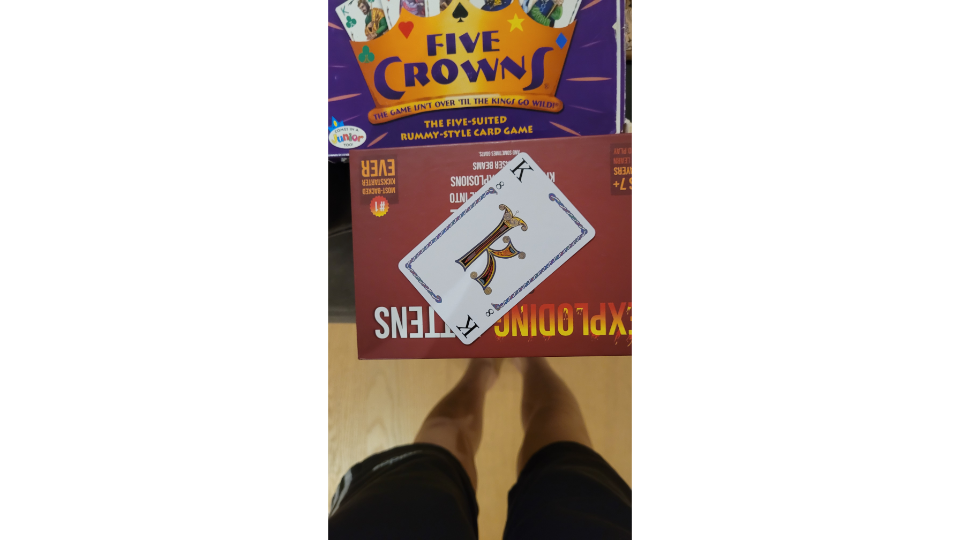K: (395, 150, 601, 348)
